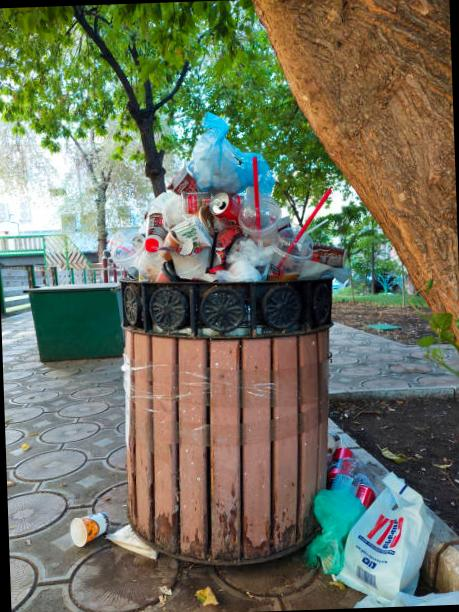trash: (102, 103, 354, 286), (313, 418, 428, 603), (107, 516, 180, 571), (341, 575, 459, 608), (64, 504, 113, 552)
trash_can_overflow: (20, 103, 459, 599)
